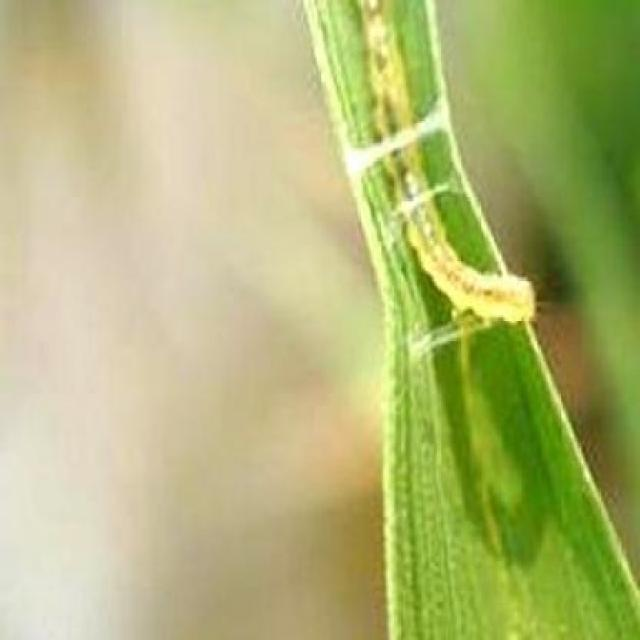leaf-folder: (340, 11, 557, 372)
